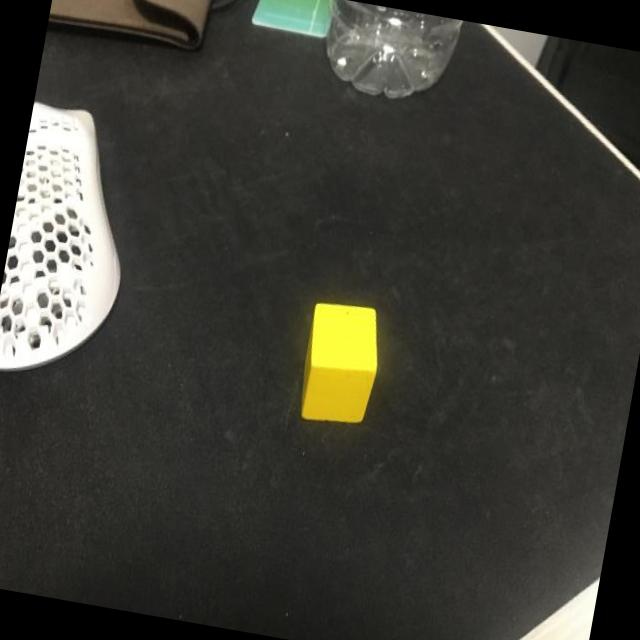yellow: (292, 298, 388, 430)
